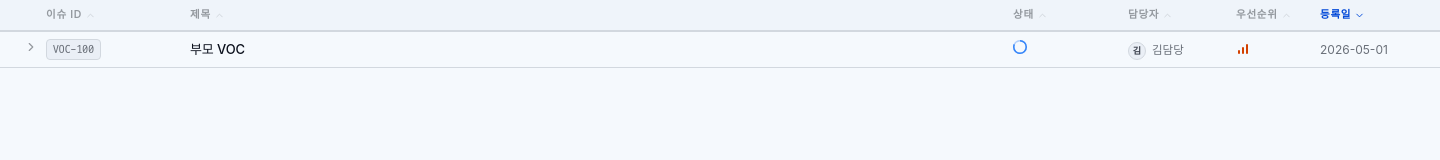
Test: VocTable §9.2.2 inline subtask expand › ▶ 토글 클릭 시 자식 인라인 펼침, 재클릭 시 접힘
Step 1. Click the button with test id "voc-row-expand-toggle" → (31, 47), box [24,40,38,54]
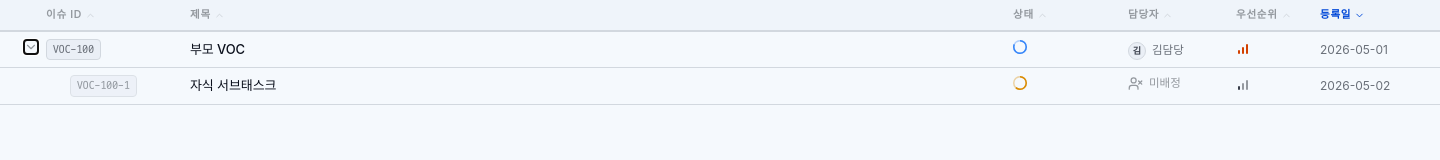
Expected: the text "자식 서브태스크" is shown, [190,77,276,93]
Expected: the button with test id "voc-row-expand-toggle" is expanded
Step 2. Click the button with test id "voc-row-expand-toggle" → (31, 47), box [24,40,38,54]
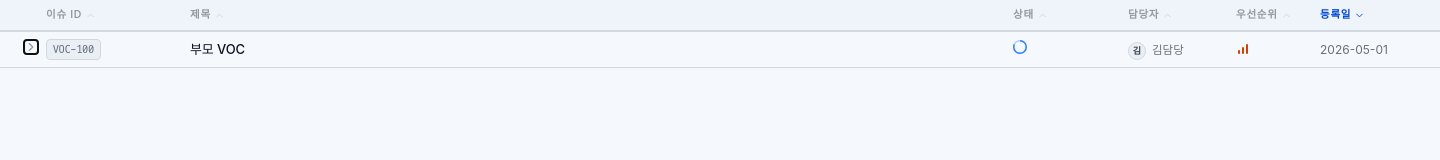
Expected: the text "자식 서브태스크" is gone
Expected: the button with test id "voc-row-expand-toggle" is collapsed, [24,40,38,54]
